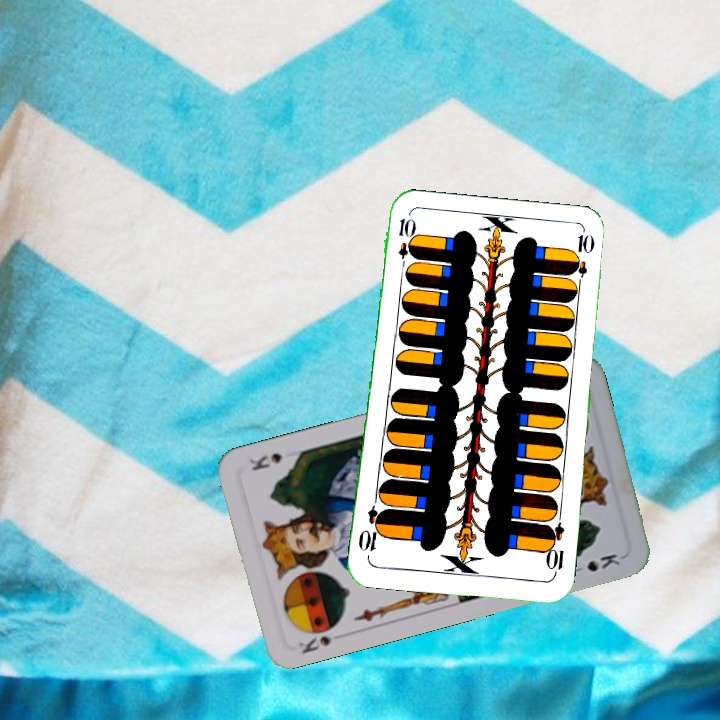E10: (542, 520, 567, 579), (394, 214, 414, 273)
SK: (295, 631, 334, 657)
